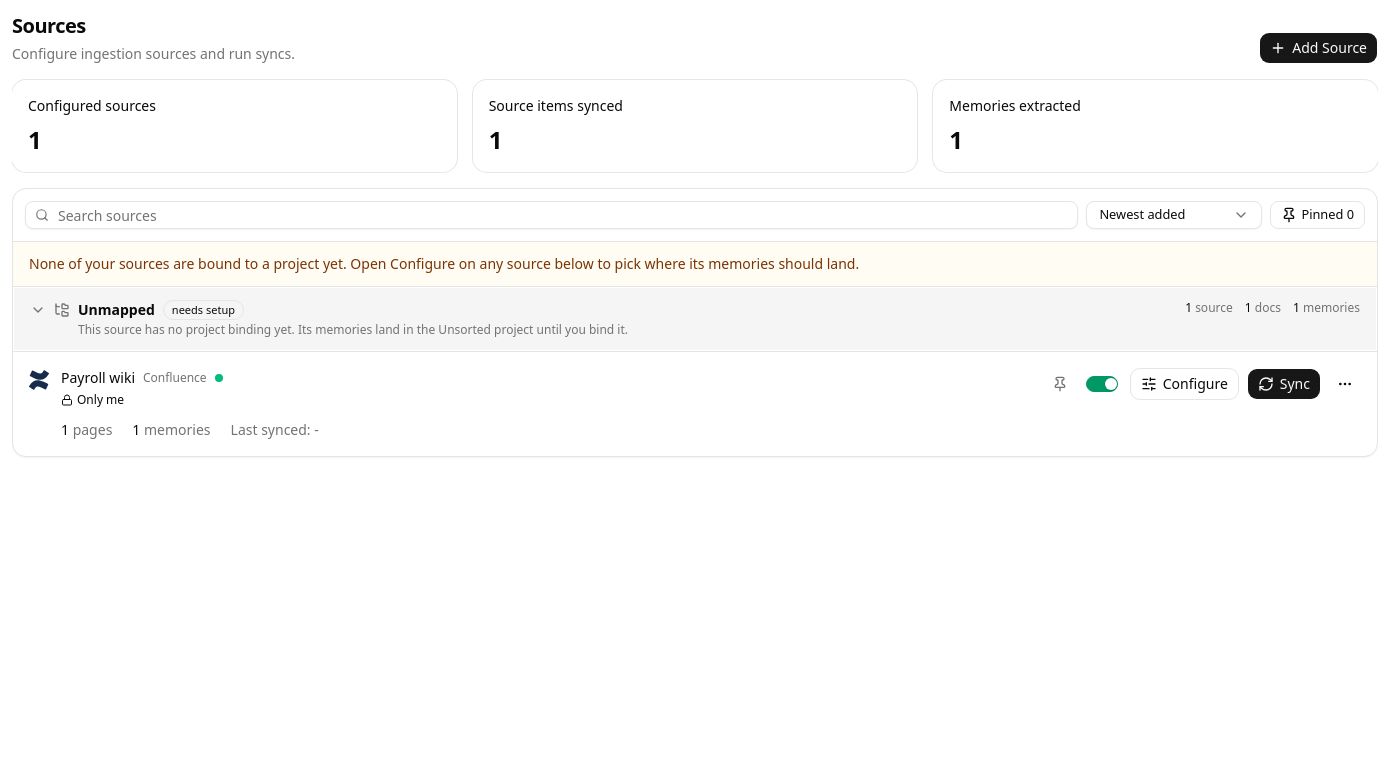
Scenario: a shared workspace labels private sources and offers Change access
Expected: the heading "Payroll wiki" is shown, [61,368,135,388]
Click the button named "More actions for Payroll wiki". click: [1345, 384]
box: [1329,368,1361,400]
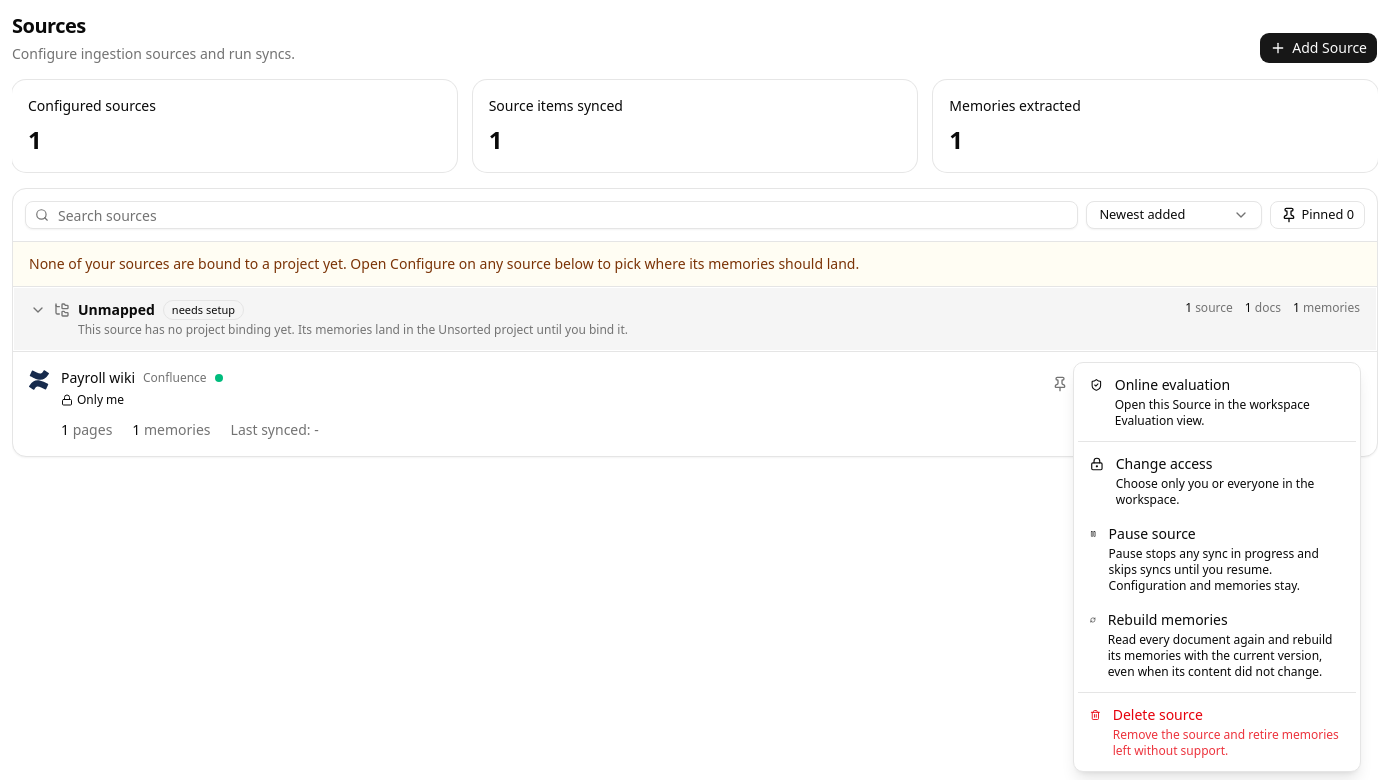
Expected: the text "Only me" is shown, [61,392,124,408]
Result: the text "Change access" is shown at [1116,454,1213,473]
